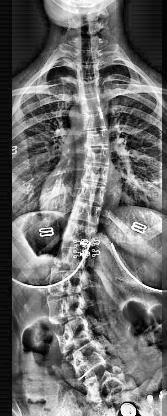Vertebrae: (66, 339, 114, 377), (52, 318, 94, 352), (88, 366, 132, 398), (49, 294, 88, 323), (62, 221, 98, 251), (46, 268, 90, 290), (70, 202, 102, 232), (56, 248, 96, 268), (78, 182, 110, 206), (81, 146, 115, 168), (82, 166, 112, 190), (82, 112, 112, 134), (80, 95, 105, 115), (86, 132, 110, 150), (80, 78, 102, 96)
